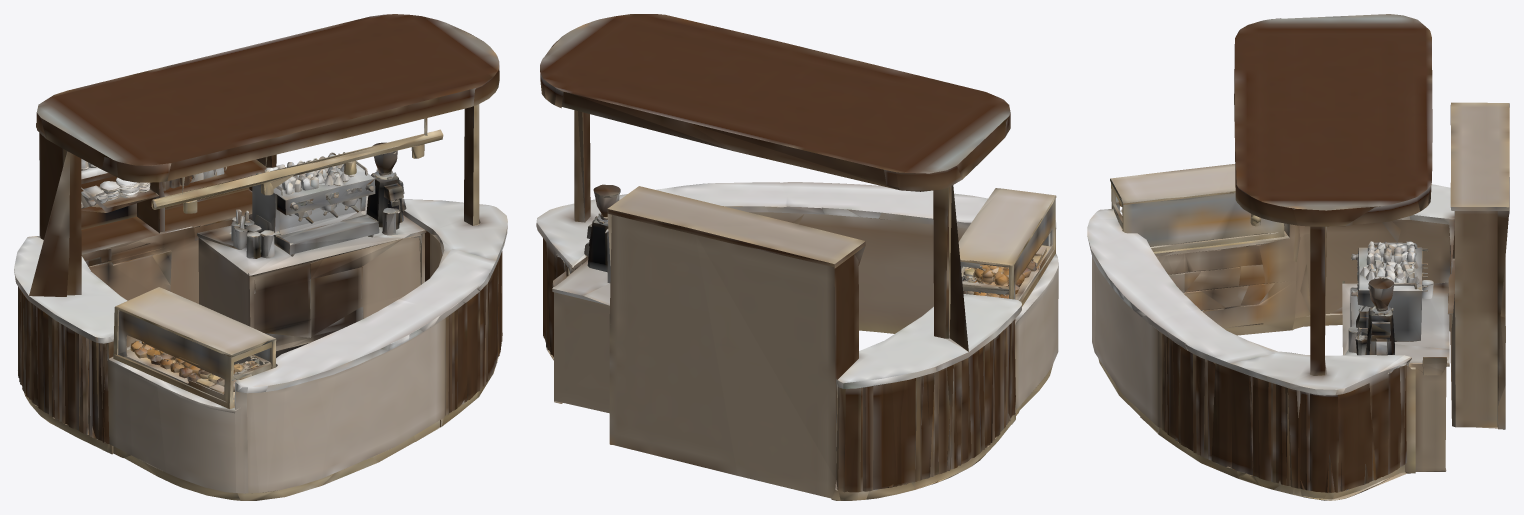
Rendered from term_cafe.glb.
3 renders of one model, left to right at view 1: azimuth 30°, elevation 25°; view 2: azimuth 150°, elevation 25°; view 3: azimuth 270°, elevation 25°, orthographic. The views are drawn at different scales.
Visible parts, largest first — view 1: LO; view 2: LO; view 3: LO.
Part boxes in pixels (x1,y1,x2,y2): LO: [14, 14, 507, 500]; LO: [536, 14, 1058, 500]; LO: [1087, 14, 1509, 500].
Bounding box in the file's own units: 4.27 × 2.71 × 3.62.
Materials: 1 (1 with a texture image).
